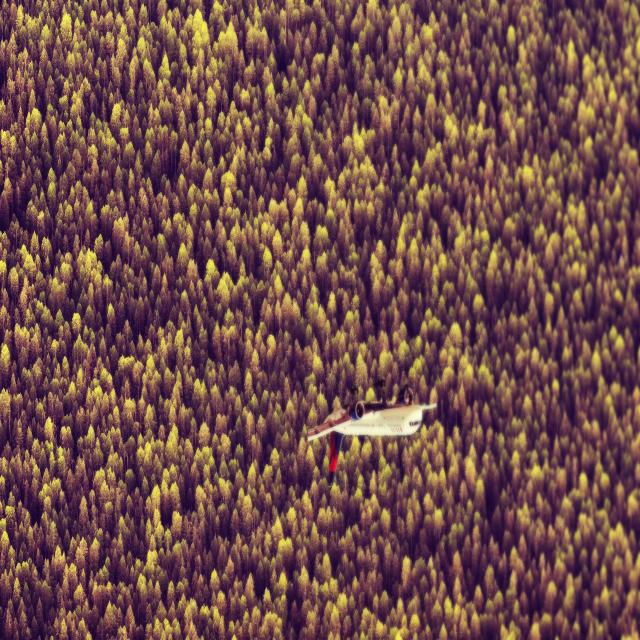airplane: (306, 382, 437, 487)
